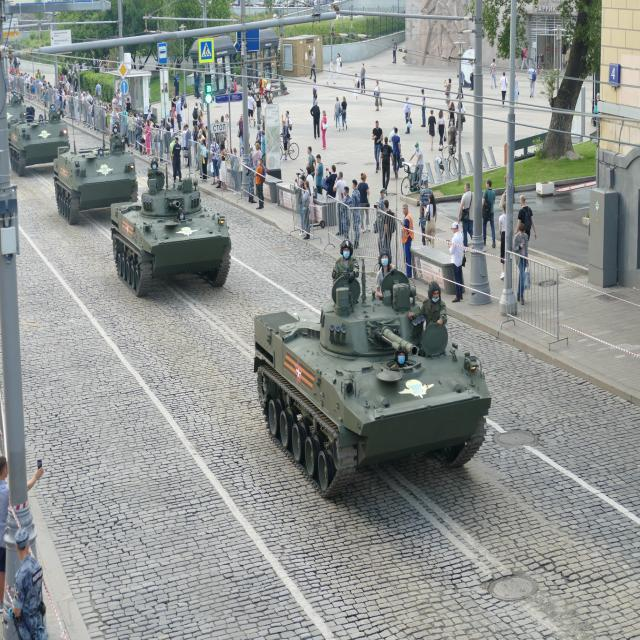MIL_MBT: (242, 231, 497, 503), (105, 166, 244, 312), (54, 128, 138, 228)
